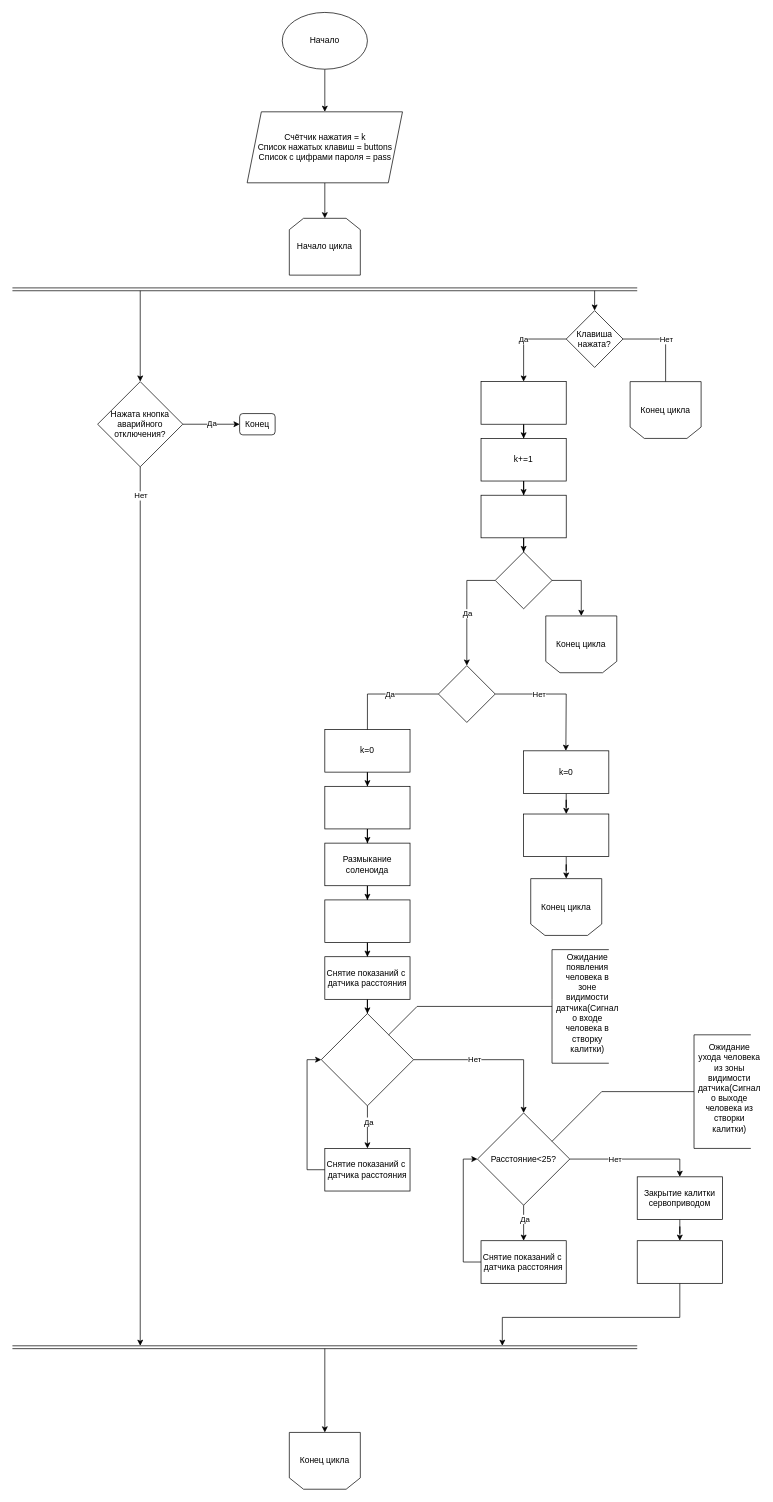
This 773x1502 diagram has some shape labels left out. The centre of each missing label's shape, as x and y in pixels:
"buttons = pass?" belongs at point (466, 693).
"buttons+=нажатая клавиша" belongs at point (523, 402).
"k=4?" belongs at point (523, 580).
"Замыкание соленоида" belongs at point (679, 1261).
"Открытие калитки сервоприводом" belongs at point (367, 921).
"Подача звукового сигнала о некорректно введённом пин-коде" belongs at point (566, 835).
"Подача звукового сигнала, сигнализирующего нажатие клавиши" belongs at point (523, 516).
"Подача разрешающего звукового сигнала" belongs at point (367, 807).
"Расстояние>25?" belongs at point (367, 1059).
